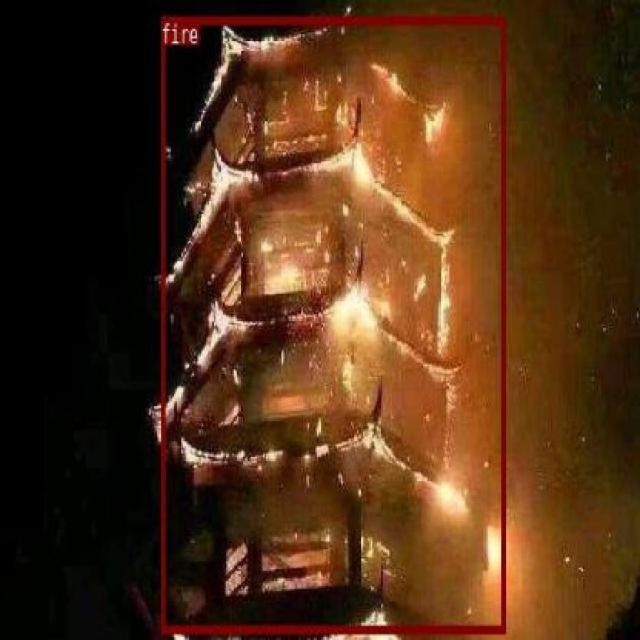Fire: (160, 16, 505, 632)
